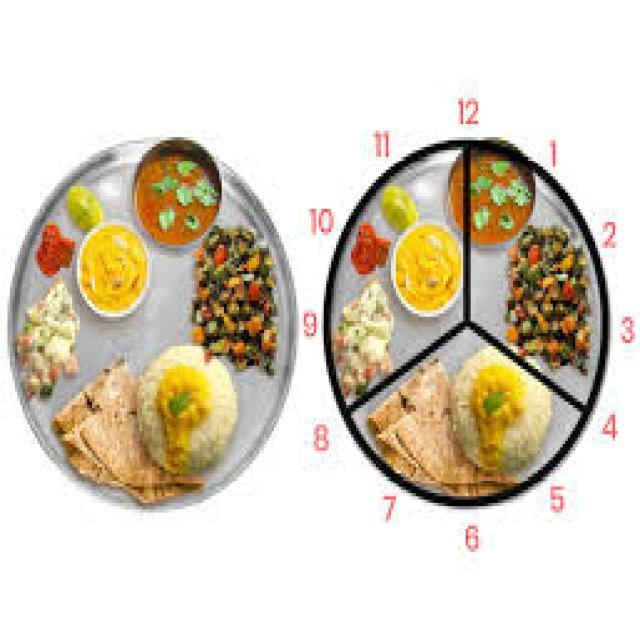dal: (388, 339, 570, 512), (73, 221, 154, 323), (389, 218, 467, 322)
papad: (52, 360, 150, 498)
pickle: (28, 214, 76, 282), (346, 215, 393, 279)
sambar-rasam: (128, 135, 226, 256)
sweet: (138, 347, 247, 491), (325, 280, 403, 399), (30, 217, 80, 282)
veg-fry: (366, 331, 571, 517), (325, 278, 404, 405)
